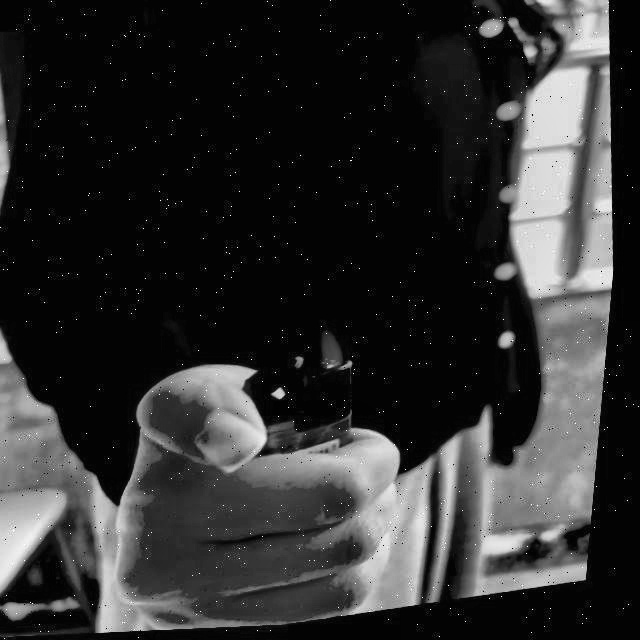Fire: (316, 319, 358, 375)
